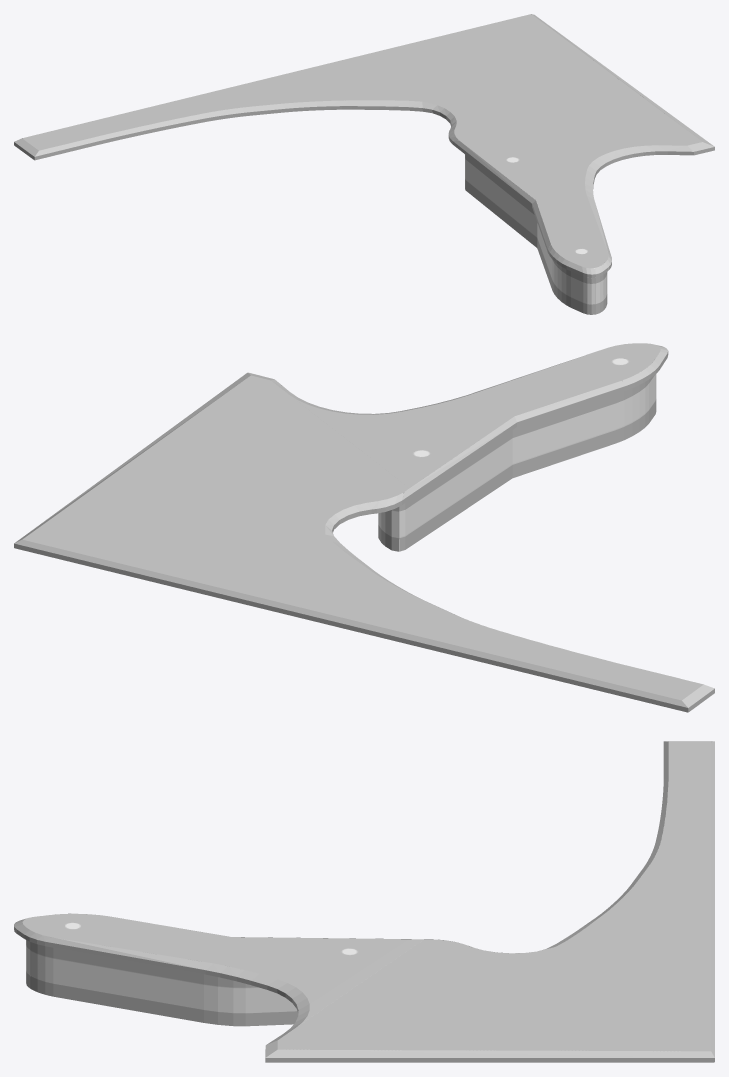
The model's file is TopRightGiantFloatyBit.obj.
3 renders of one model, top to bottom at view 1: azimuth 30°, elevation 25°; view 2: azimuth 150°, elevation 25°; view 3: azimuth 270°, elevation 25°, orthographic. The views are drawn at different scales.
Visible parts, largest first — view 1: TopRightGiantFloatyBit_Circle.002; view 2: TopRightGiantFloatyBit_Circle.002; view 3: TopRightGiantFloatyBit_Circle.002.
Part boxes in pixels (left/top/right/bottom): TopRightGiantFloatyBit_Circle.002: left=14, top=14, right=714, bottom=314; TopRightGiantFloatyBit_Circle.002: left=14, top=343, right=714, bottom=712; TopRightGiantFloatyBit_Circle.002: left=14, top=741, right=714, bottom=1062.
Bounding box in the file's own units: 1.32 × 0.1166 × 1.24.
